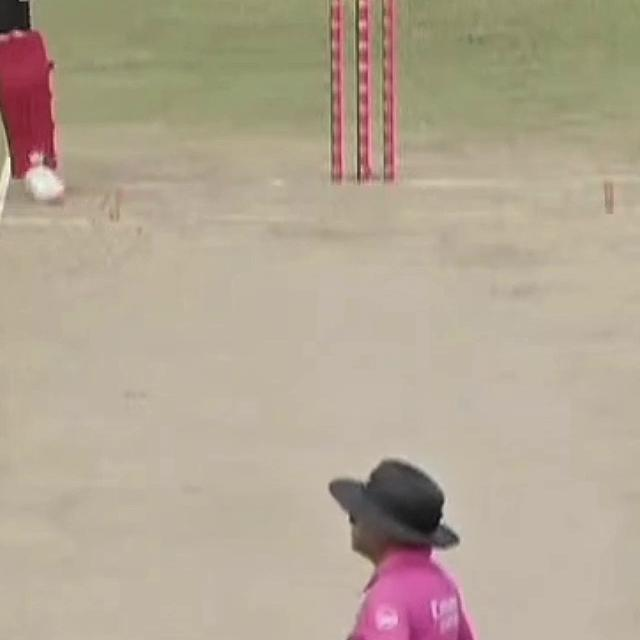umpire: (235, 445, 543, 640), (234, 465, 546, 640)
